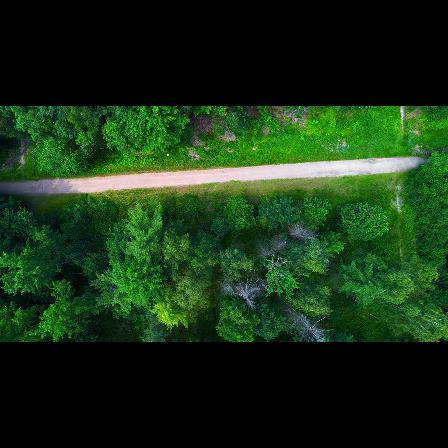Dead: (284, 294, 328, 342), (229, 277, 259, 308), (255, 237, 289, 263), (284, 222, 312, 241)
